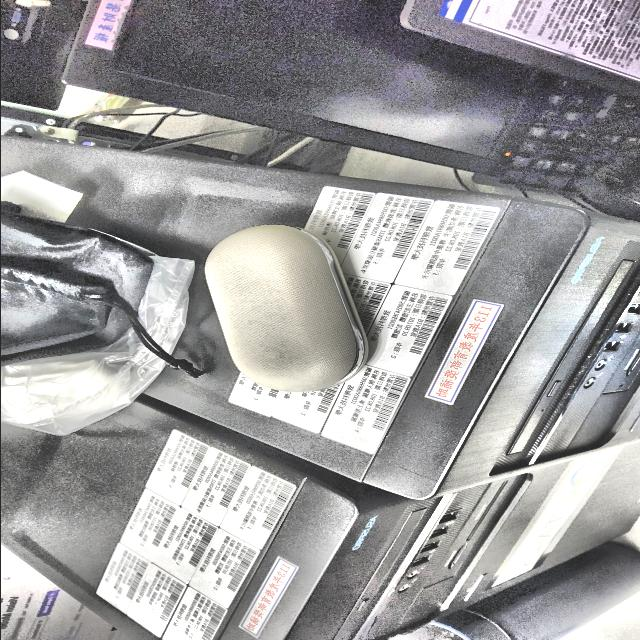Bluetooth headphones: (204, 225, 367, 392)
Laptop: (400, 0, 640, 97)
Screen: (63, 0, 526, 164)
